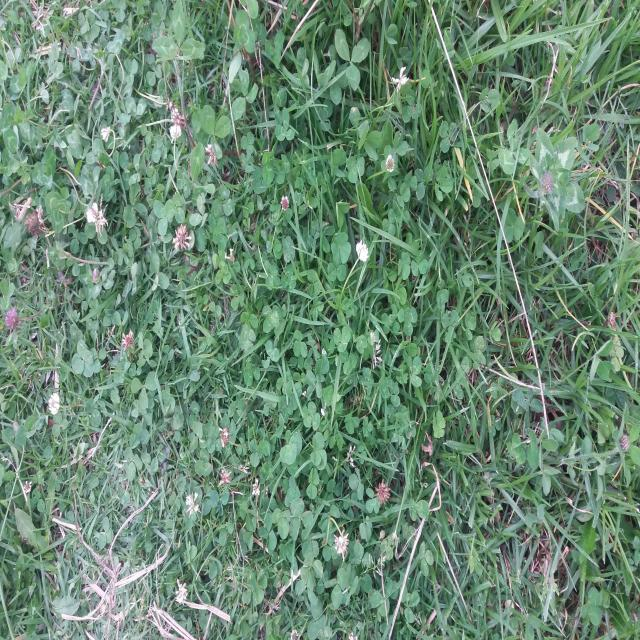Four Leaf Clover: (71, 339, 94, 377), (300, 551, 323, 587), (280, 430, 302, 465), (247, 573, 267, 606), (310, 432, 327, 470)
